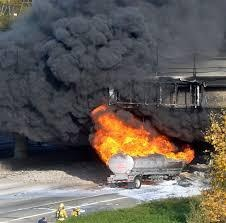fire: (89, 104, 195, 165)
